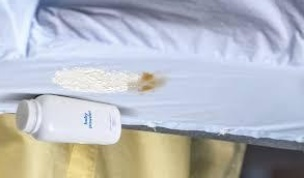oil: (137, 67, 168, 94)
